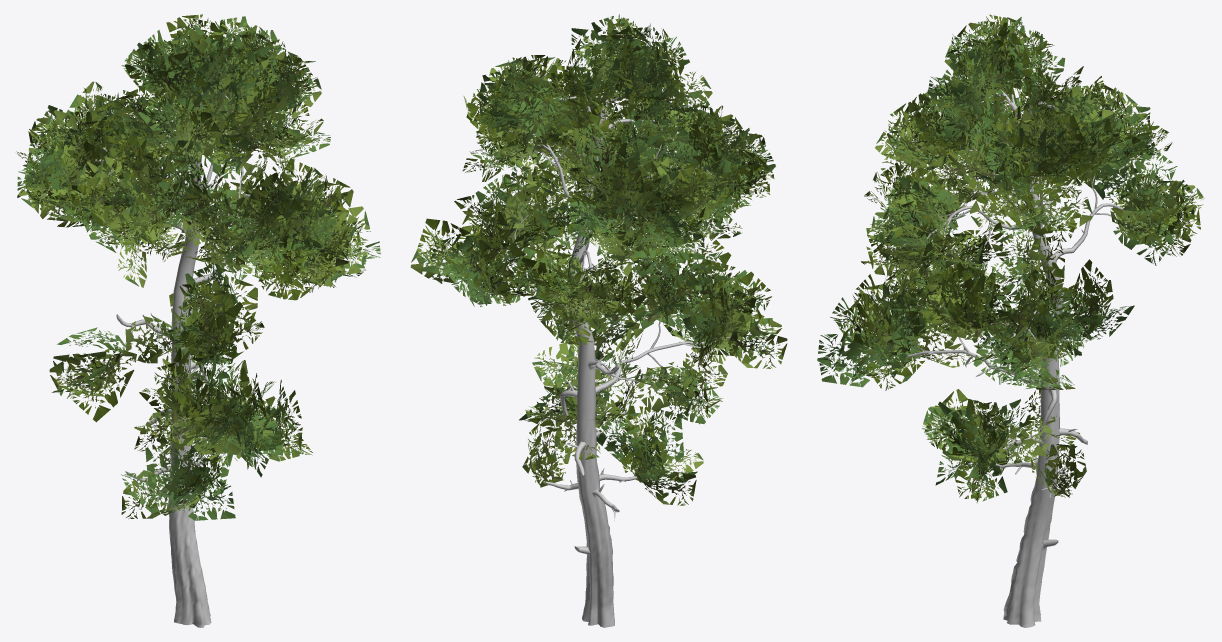
File: Tree1.fbx
The picture shows the model from 3 angles, left to right: view 1: azimuth 30°, elevation 25°; view 2: azimuth 150°, elevation 25°; view 3: azimuth 270°, elevation 25°; orthographic projection. The views are drawn at different scales.
Visible parts, largest first — view 1: Oak_White_Desktop_Forest_001.001; view 2: Oak_White_Desktop_Forest_001.001; view 3: Oak_White_Desktop_Forest_001.001.
Boxes of the visible parts, left/top/right/bottom form: Oak_White_Desktop_Forest_001.001: left=16, top=14, right=380, bottom=627; Oak_White_Desktop_Forest_001.001: left=410, top=14, right=787, bottom=627; Oak_White_Desktop_Forest_001.001: left=817, top=14, right=1204, bottom=627.
Size of the model in its own units: 644 by 1106 by 664.
